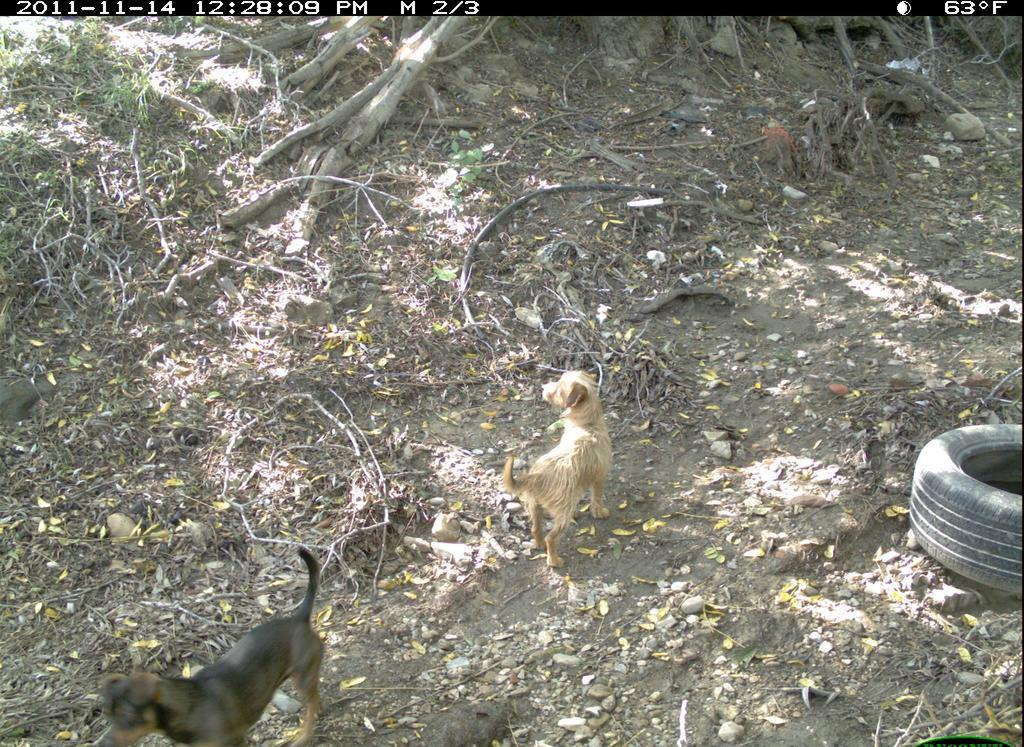dog: (63, 537, 353, 747), (469, 357, 684, 584)
